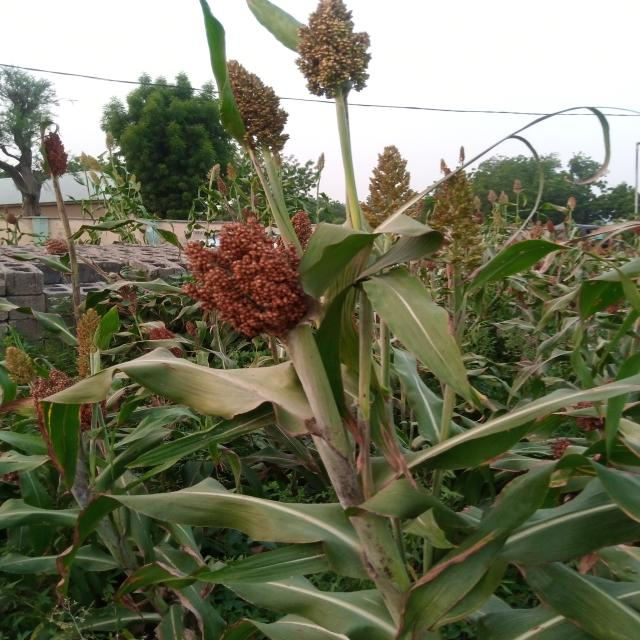RipeSorghum: (161, 203, 350, 344)
UnripeSorghum: (288, 0, 409, 112)
